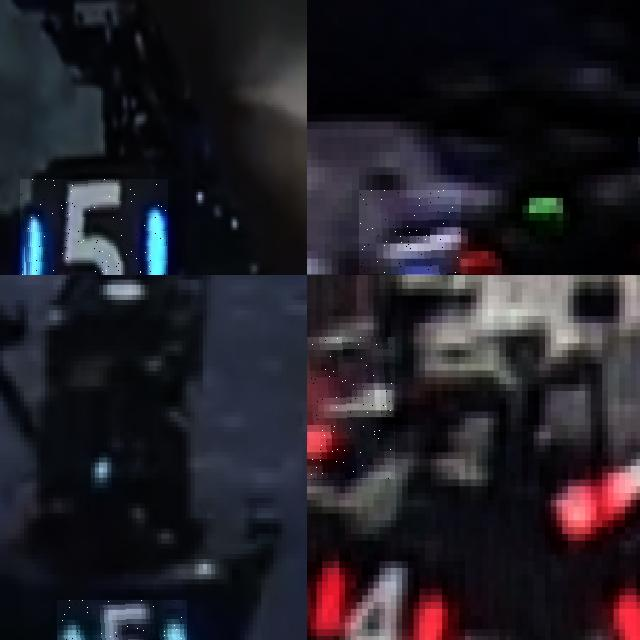B1: (359, 190, 461, 275)
B5: (20, 178, 168, 275), (57, 599, 186, 640)
R4: (307, 547, 448, 640), (307, 336, 396, 479), (608, 540, 640, 640)
